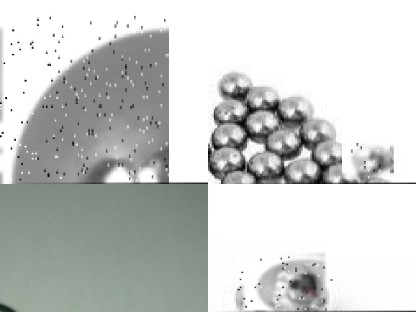ironball: (0, 16, 169, 184), (256, 256, 327, 311), (347, 141, 389, 178), (247, 145, 285, 179), (246, 104, 280, 141), (216, 71, 254, 99), (267, 123, 298, 157), (297, 115, 334, 142), (279, 93, 313, 121), (213, 162, 258, 183), (244, 83, 278, 110), (211, 147, 243, 175), (212, 98, 244, 123), (281, 160, 319, 181), (318, 161, 354, 182), (312, 140, 345, 162)
